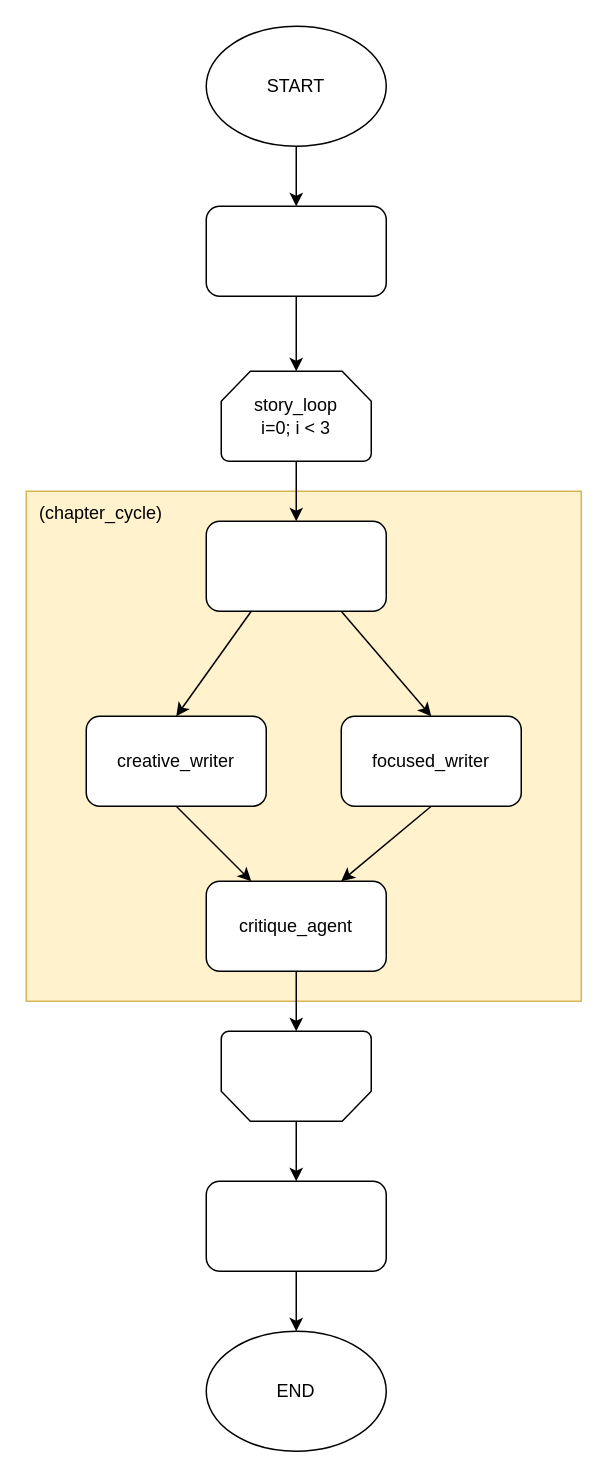
Image size: 608x1478. Some labels were removed from this diagram. Each missing label, with the centre of its shape:
"(parallel_writers)" belongs at point 295,565.
"editor_agent" belongs at point 295,1225.
"prompt_enhancher" belongs at point 295,250.
